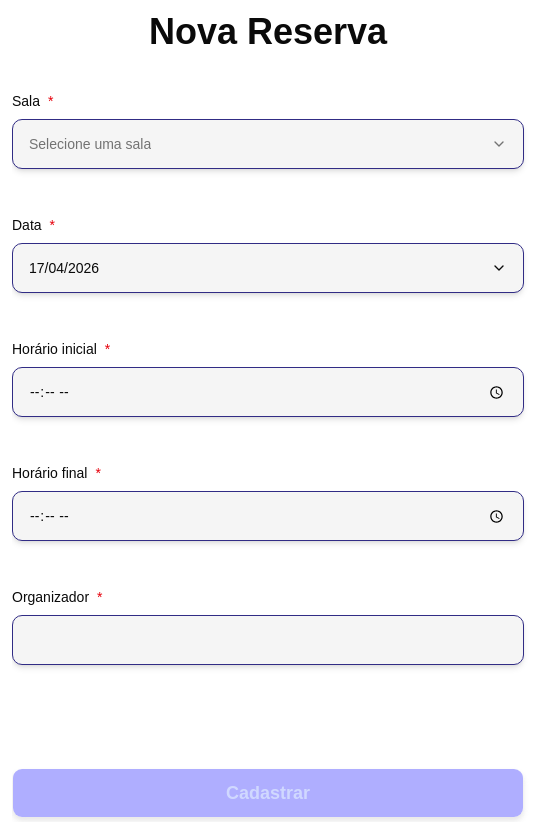
Test: CreateReservation › Validações › deve mostrar erro quando campo estiver vazio: 'input-fim'
The image size is (544, 822).
Click the time field with test id "input-fim".
click(268, 516)  # box [12,491,524,541]
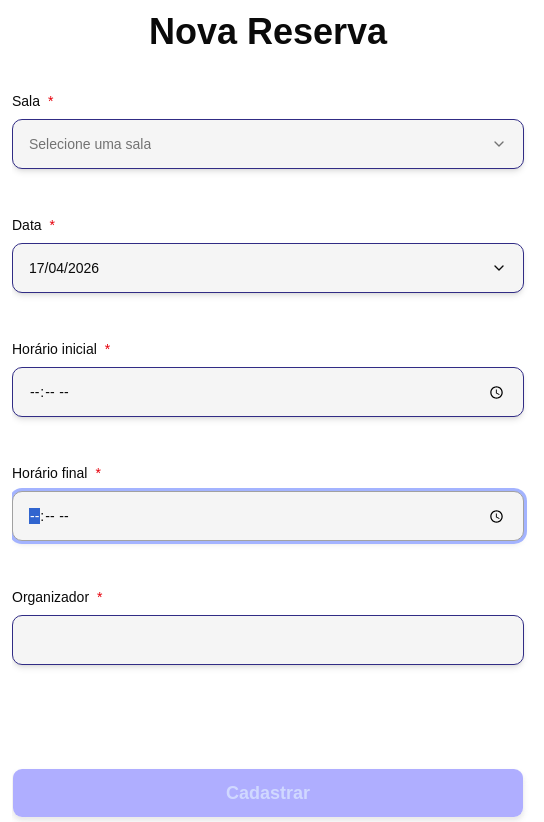
Press Tab
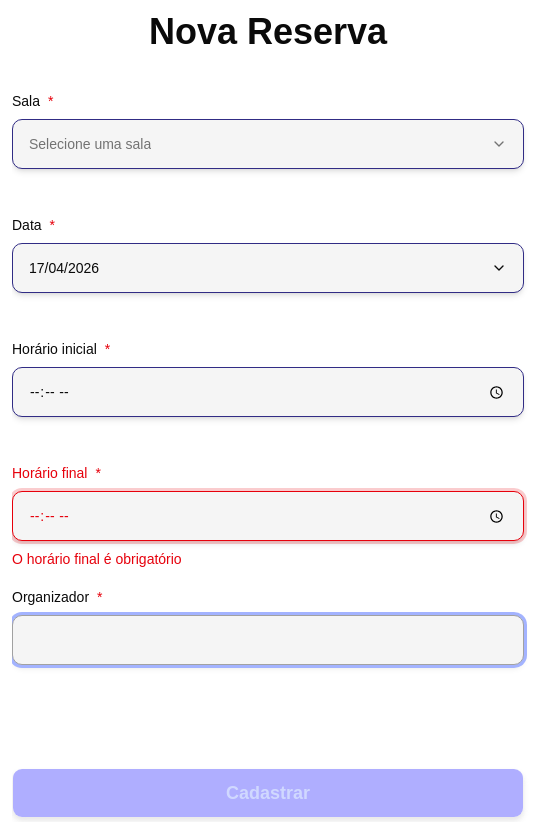
Check: the text "O horário final é obrigatório" is shown, box [12,551,182,567]
